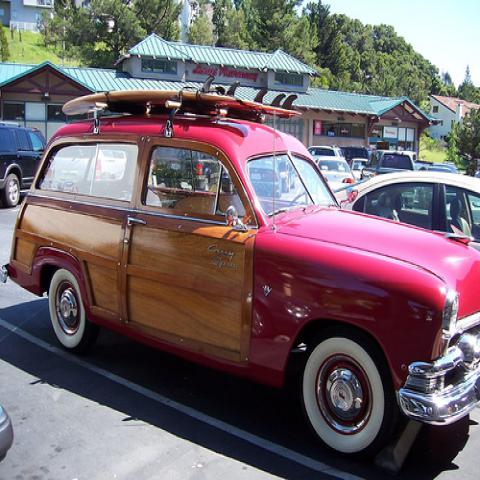car: (0, 104, 479, 464), (336, 170, 479, 252), (2, 116, 46, 205), (362, 149, 414, 181), (316, 156, 356, 182), (0, 403, 14, 457), (306, 144, 344, 161), (348, 159, 368, 180)
